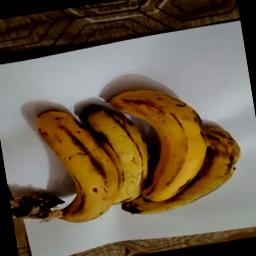Banana Unripe: (14, 73, 251, 238)
